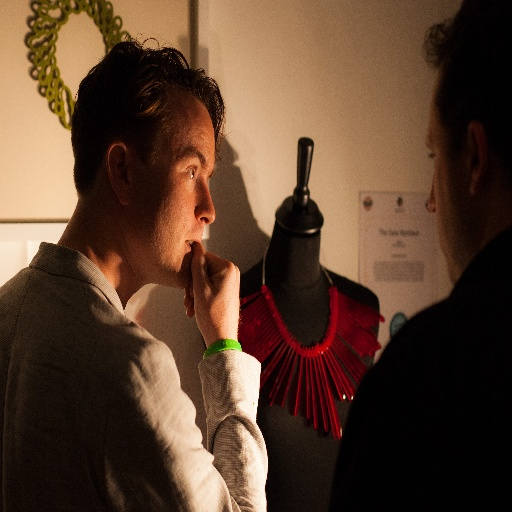hand: (180, 243, 249, 370)
